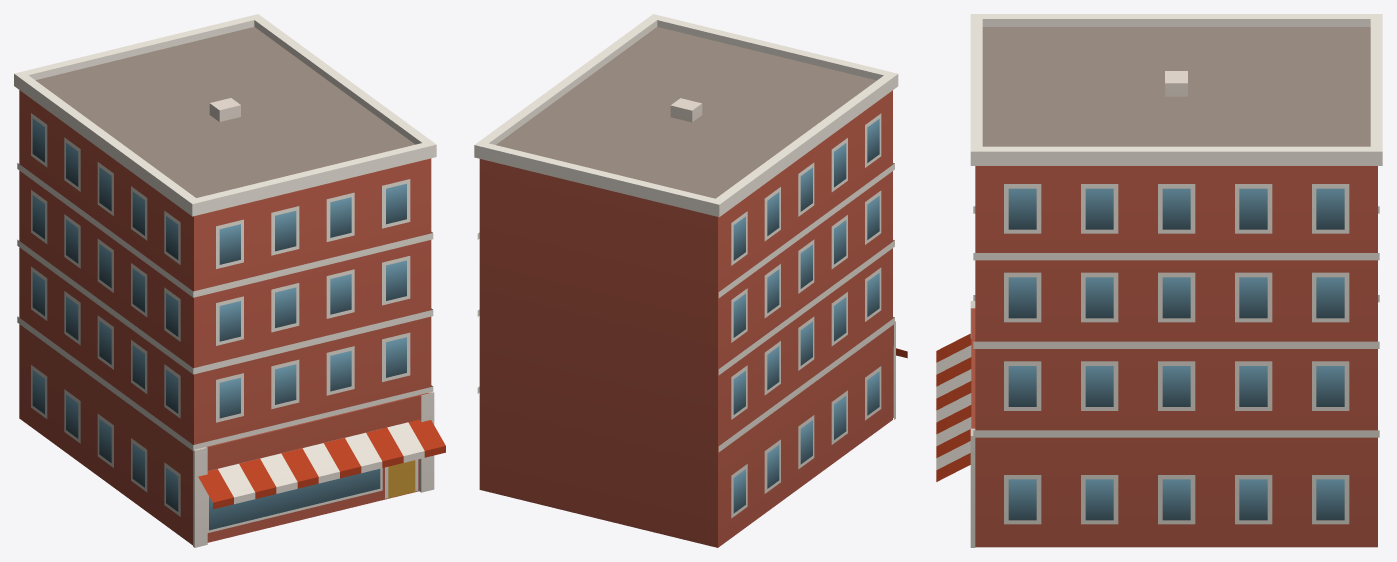
File: boylston_s4_far.glb
3 views of the same model, side by side, from view 1: azimuth 30°, elevation 25°; view 2: azimuth 150°, elevation 25°; view 3: azimuth 270°, elevation 25° (orthographic). The views are drawn at different scales.
Parts seen in each view (by area): view 1: boylston_s4_far; view 2: boylston_s4_far; view 3: boylston_s4_far.
Part boxes in pixels (box(x1,y1,x2,y2)): boylston_s4_far: box(14, 14, 445, 547); boylston_s4_far: box(474, 14, 907, 547); boylston_s4_far: box(936, 14, 1382, 547).
Size of the model in its own units: 11.32 by 15.47 by 15.51.
Materials: 1 (1 with a texture image).
